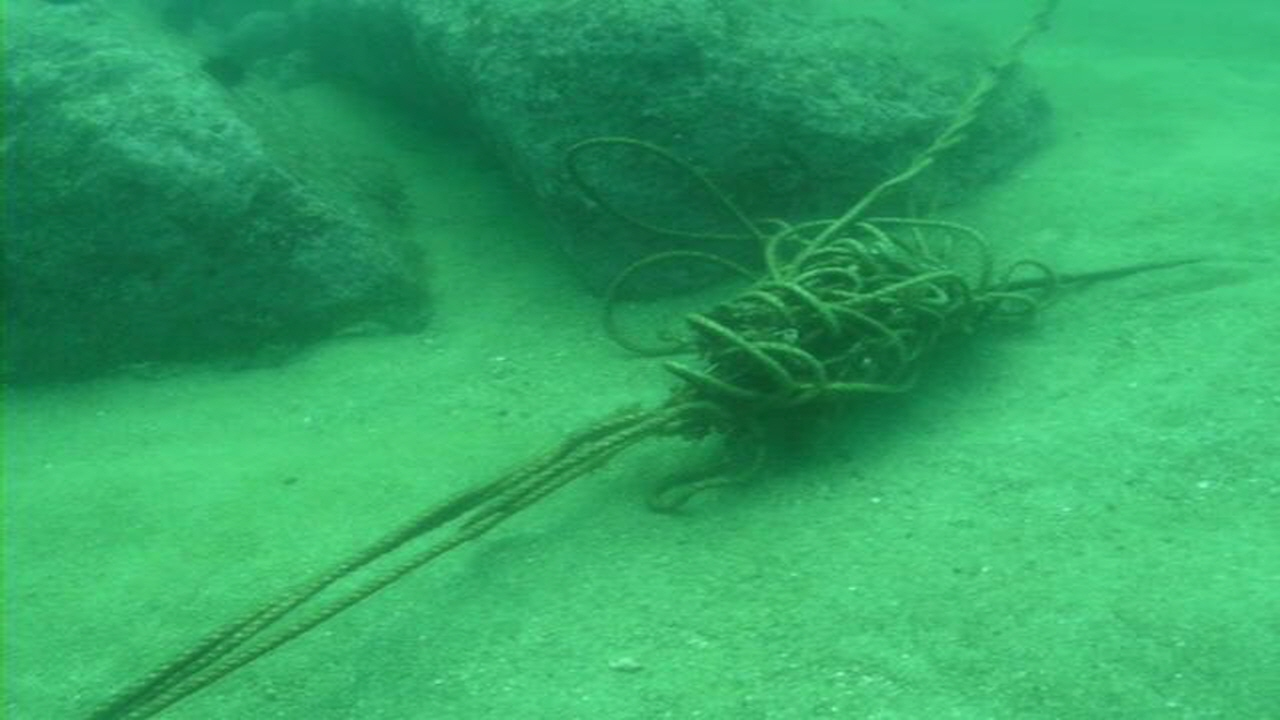bundle of ropes: (82, 0, 1112, 720)
